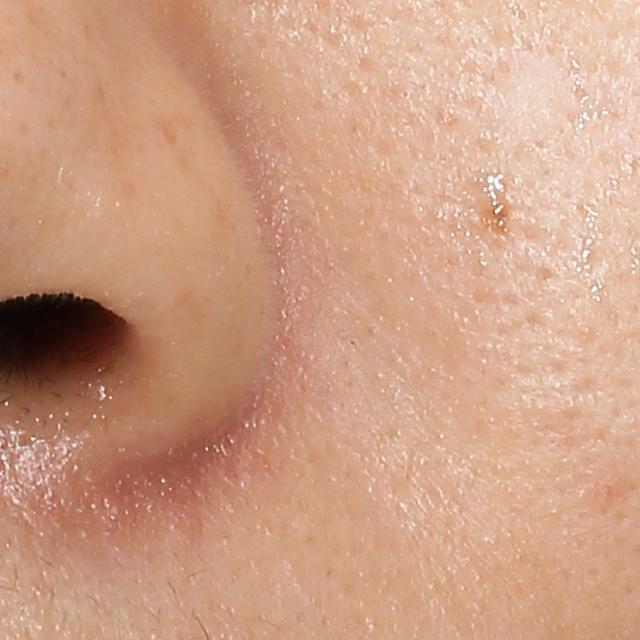nevus: (480, 174, 518, 240)
